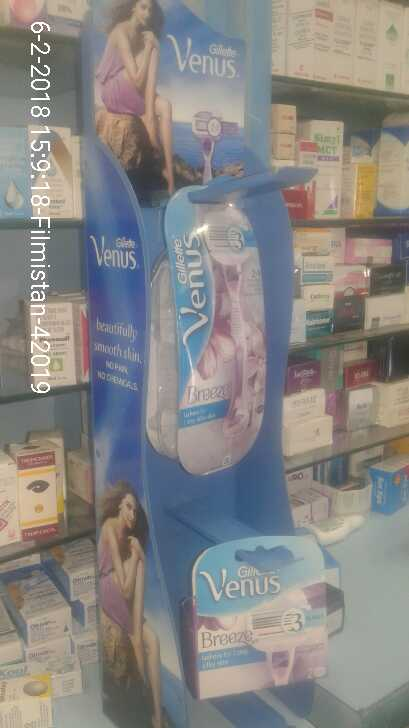venus: (154, 175, 270, 478), (182, 528, 339, 695)
